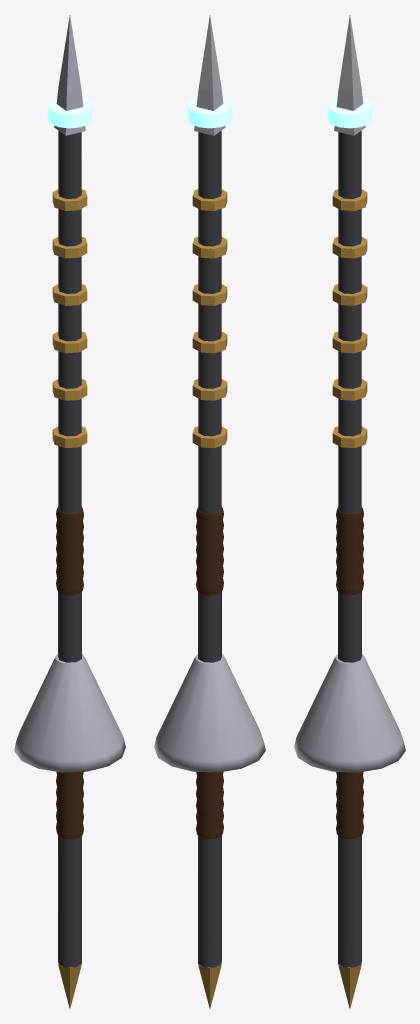
The model's file is shock_lance.glb.
3 views of the same model, side by side, from view 1: azimuth 30°, elevation 25°; view 2: azimuth 150°, elevation 25°; view 3: azimuth 330°, elevation 25° (orthographic).
Parts seen in each view (by area): view 1: ShockLance_Shaft, ShockLance_Vamplate, ShockLance_Coils, ShockLance_OffGrip, ShockLance_Grip, ShockLance_Tip, ShockLance_Glow; view 2: ShockLance_Shaft, ShockLance_Vamplate, ShockLance_Coils, ShockLance_OffGrip, ShockLance_Grip, ShockLance_Tip, ShockLance_Glow; view 3: ShockLance_Shaft, ShockLance_Vamplate, ShockLance_Coils, ShockLance_OffGrip, ShockLance_Grip, ShockLance_Tip, ShockLance_Glow.
Boxes of the visible parts, x1,y1,x2,y2 form: ShockLance_Shaft: (58, 131, 81, 967); ShockLance_Vamplate: (14, 654, 125, 772); ShockLance_Coils: (52, 189, 87, 1008); ShockLance_OffGrip: (56, 507, 83, 595); ShockLance_Grip: (56, 771, 83, 839); ShockLance_Tip: (54, 15, 85, 135); ShockLance_Glow: (47, 98, 92, 128); ShockLance_Shaft: (198, 131, 221, 967); ShockLance_Vamplate: (154, 654, 265, 772); ShockLance_Coils: (192, 189, 227, 1008); ShockLance_OffGrip: (196, 507, 223, 595); ShockLance_Grip: (196, 771, 223, 839); ShockLance_Tip: (194, 15, 225, 135); ShockLance_Glow: (187, 98, 232, 128); ShockLance_Shaft: (338, 131, 361, 967); ShockLance_Vamplate: (294, 654, 405, 772); ShockLance_Coils: (332, 189, 367, 1008); ShockLance_OffGrip: (336, 507, 363, 595); ShockLance_Grip: (336, 771, 363, 839); ShockLance_Tip: (334, 15, 365, 135); ShockLance_Glow: (327, 98, 372, 128).
Size of the model in its own units: 0.15 by 1.47 by 0.1462.
